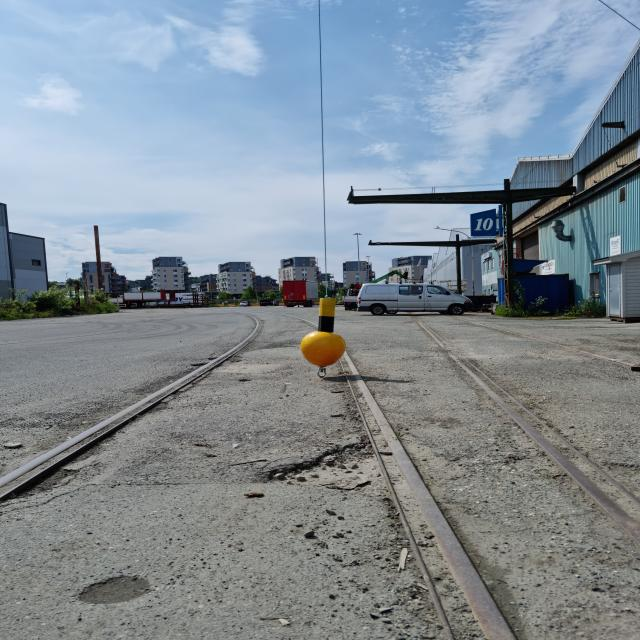west: (298, 297, 346, 366)
